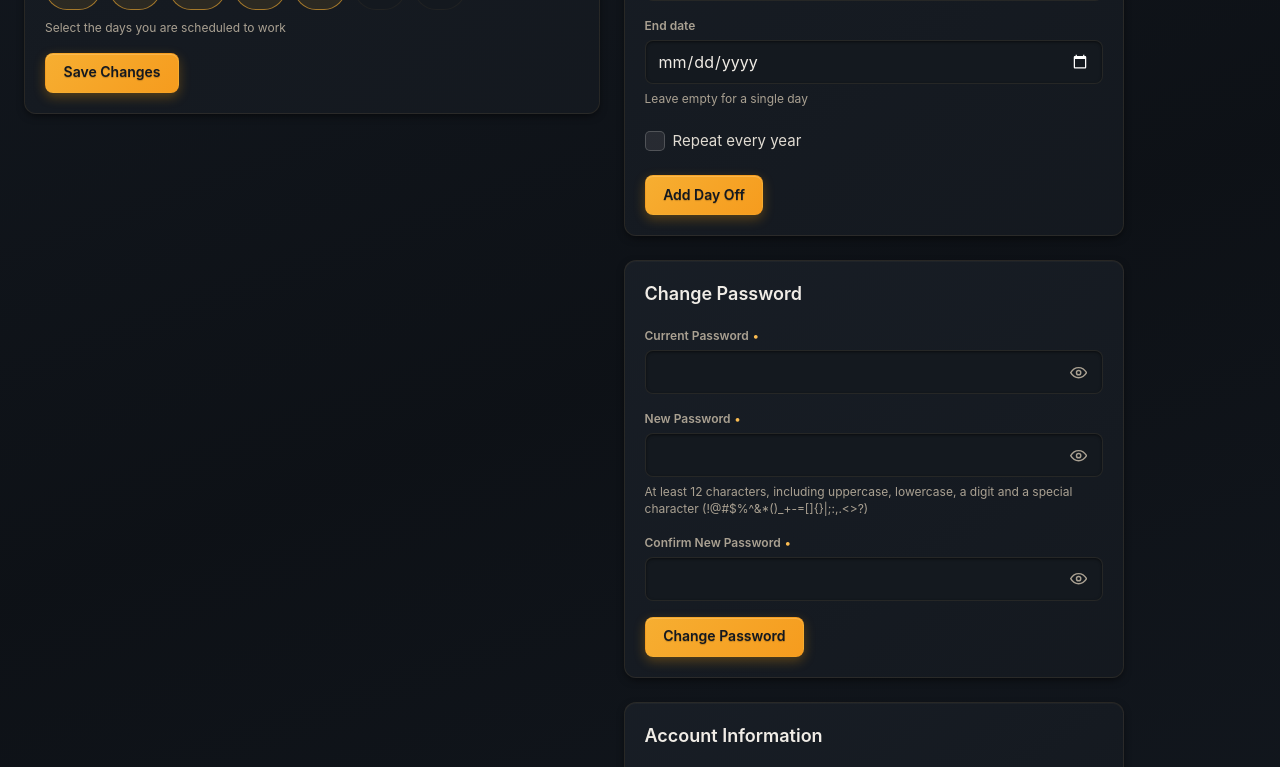
Test: SettingsPage – password › rejects a new password that violates the policy
(page scrolled)
Type "OldPassword1!" into the password field labelled "Current Password•" at coordinates (859, 372), box [658,351,1060,393]
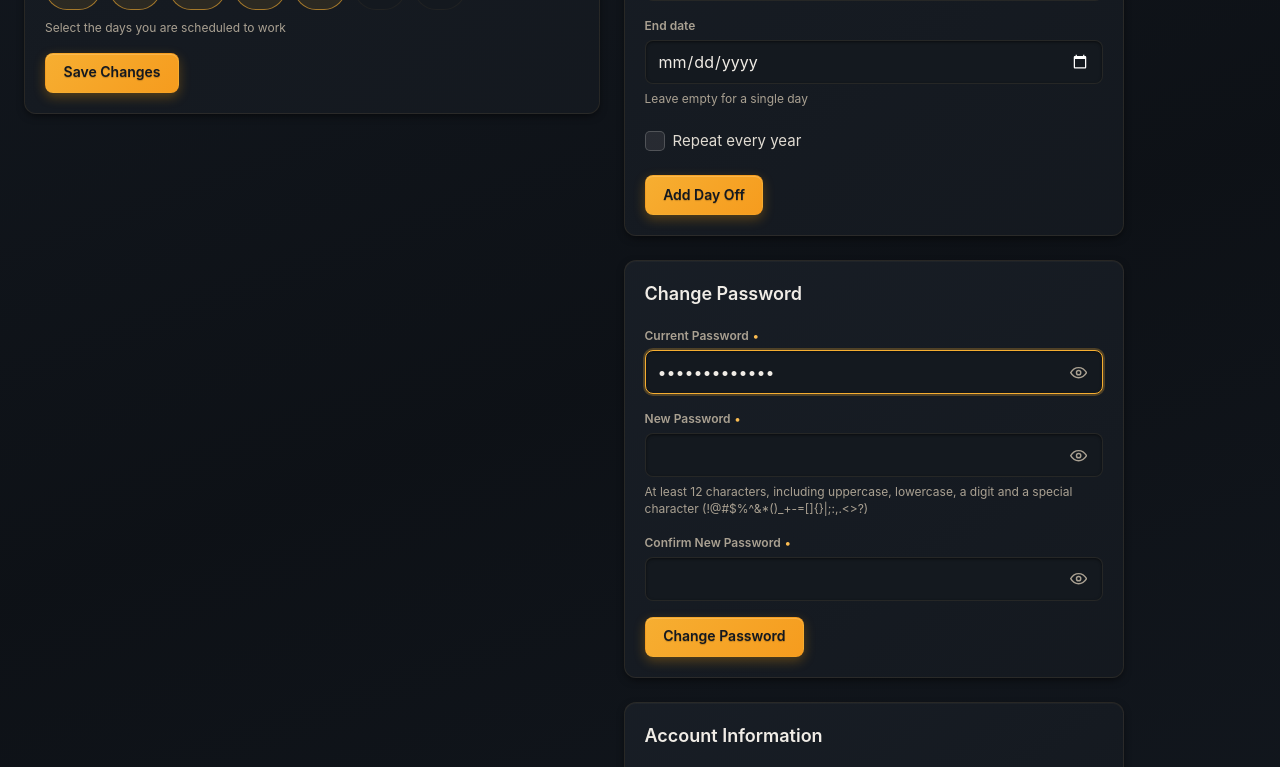
Type "short" into the password field labelled "New Password•" at coordinates (859, 455), box [658,434,1060,476]
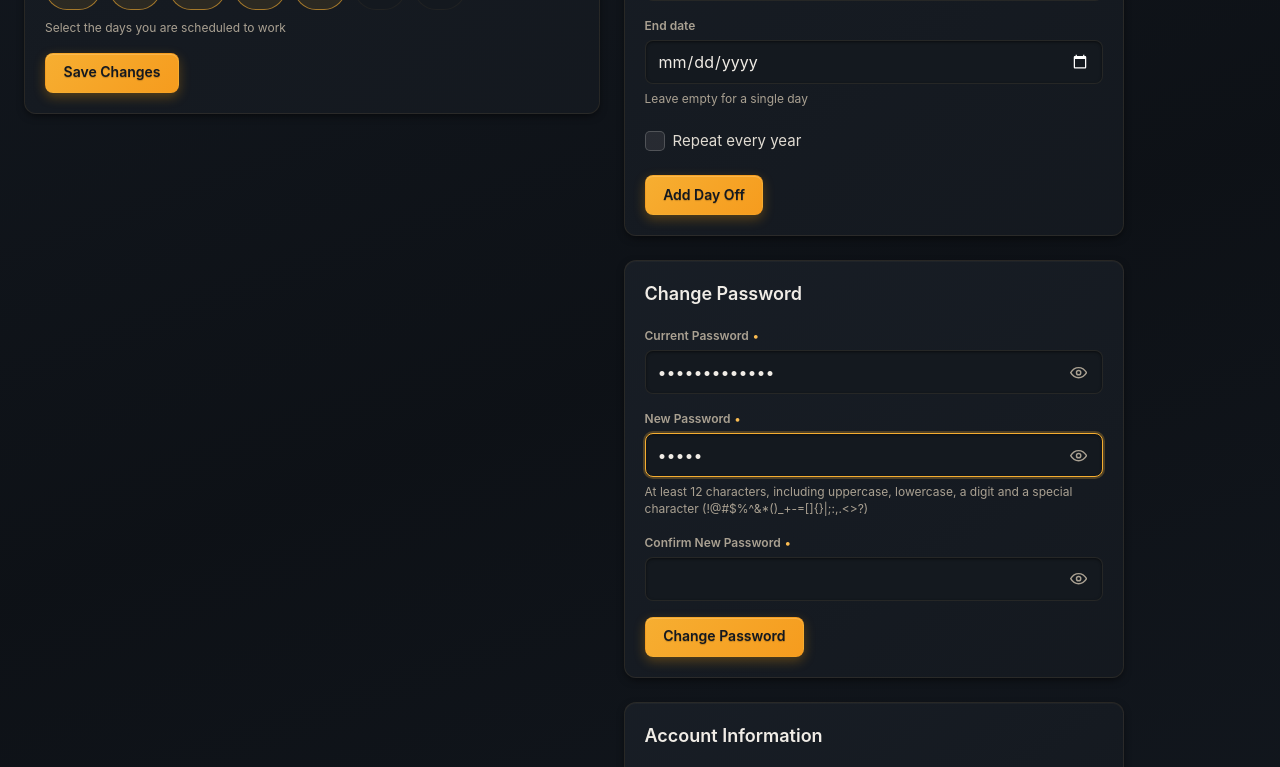
Type "short" into the password field labelled "Confirm New Password•" at coordinates (859, 578), box [658,558,1060,600]
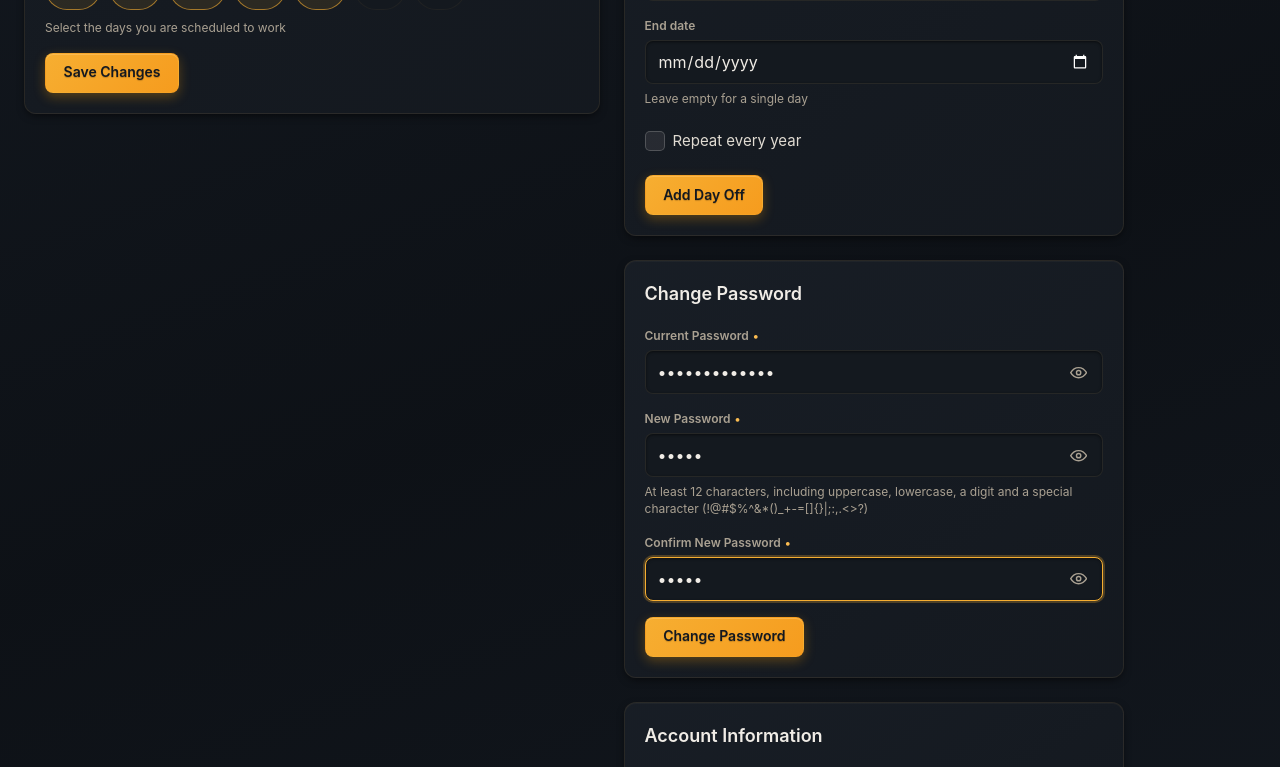
Click the button "Change Password" at coordinates (724, 636), box [644,616,804,656]
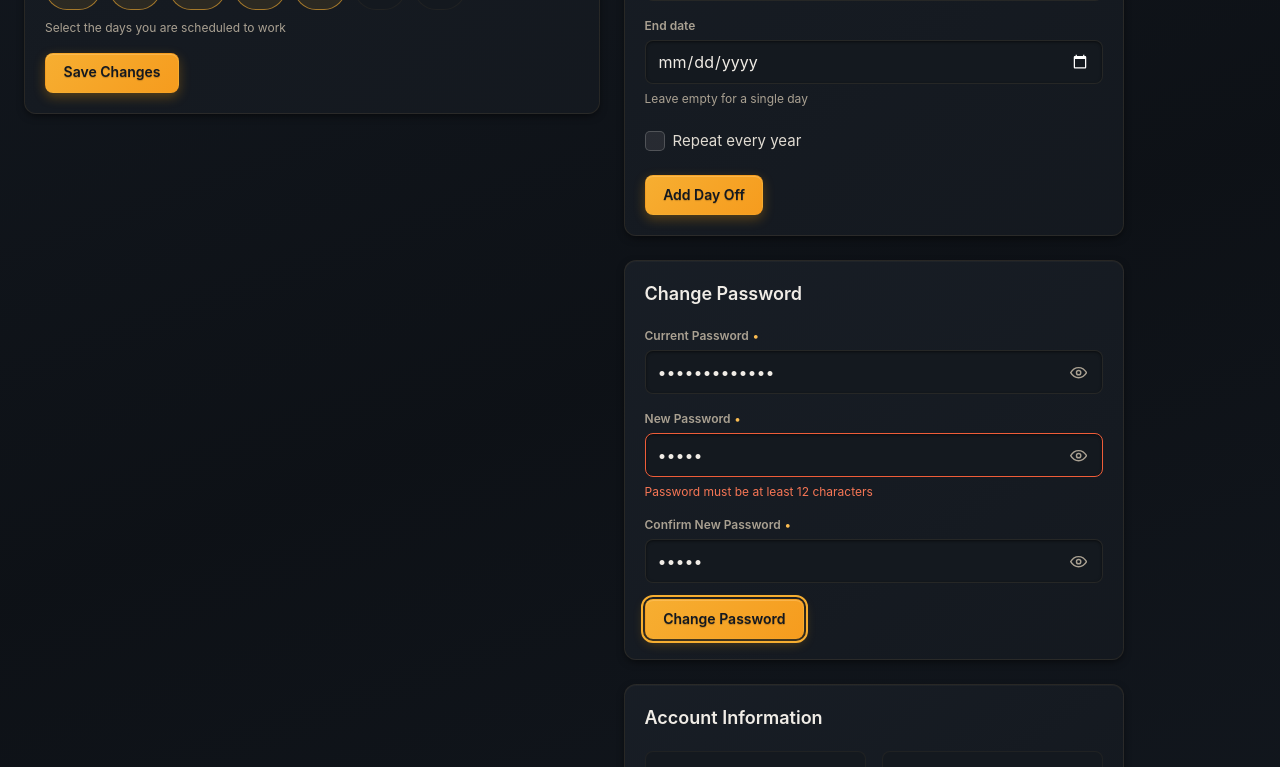
Expected: the text "Password must be at least 12 characters" is shown, [644,484,873,499]
